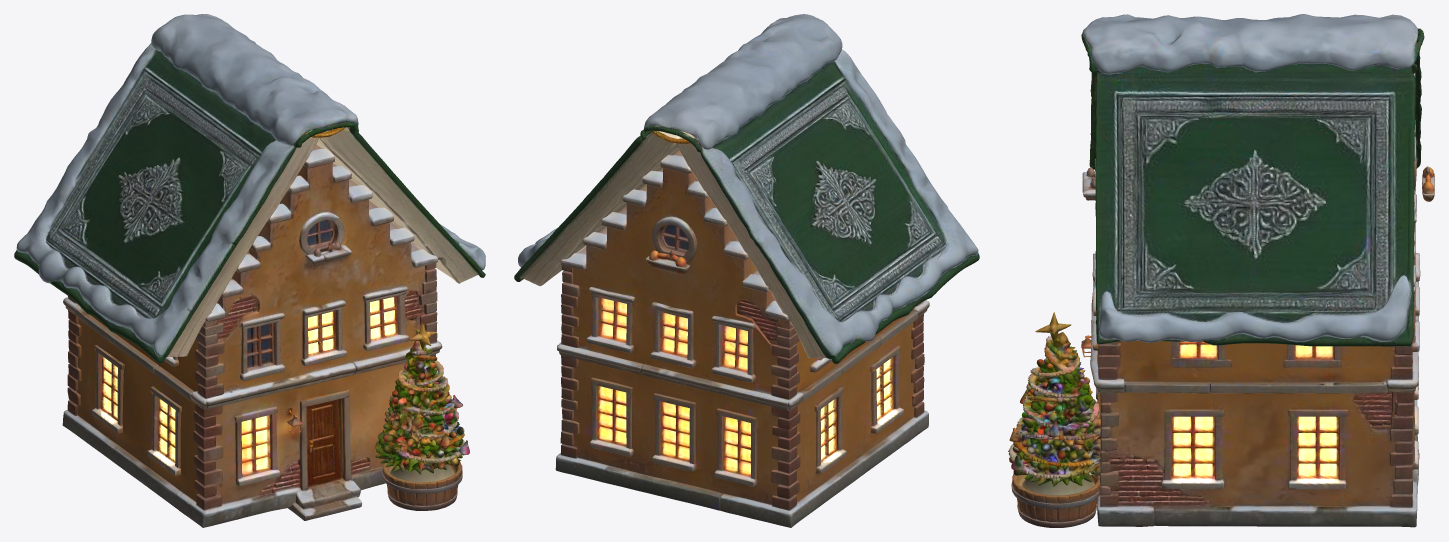
The model's file is fir-tree.glb.
The picture shows the model from 3 angles, left to right: view 1: azimuth 30°, elevation 25°; view 2: azimuth 150°, elevation 25°; view 3: azimuth 270°, elevation 25°; orthographic projection. The views are drawn at different scales.
Parts seen in each view (by area): view 1: model; view 2: model; view 3: model.
Boxes of the visible parts, left/top/right/bottom form: model: left=14, top=14, right=485, bottom=527; model: left=514, top=14, right=979, bottom=527; model: left=1008, top=14, right=1434, bottom=527.
Bounding box in the file's own units: 1.74 × 1.9 × 1.65.
1 material, 1 textured.
